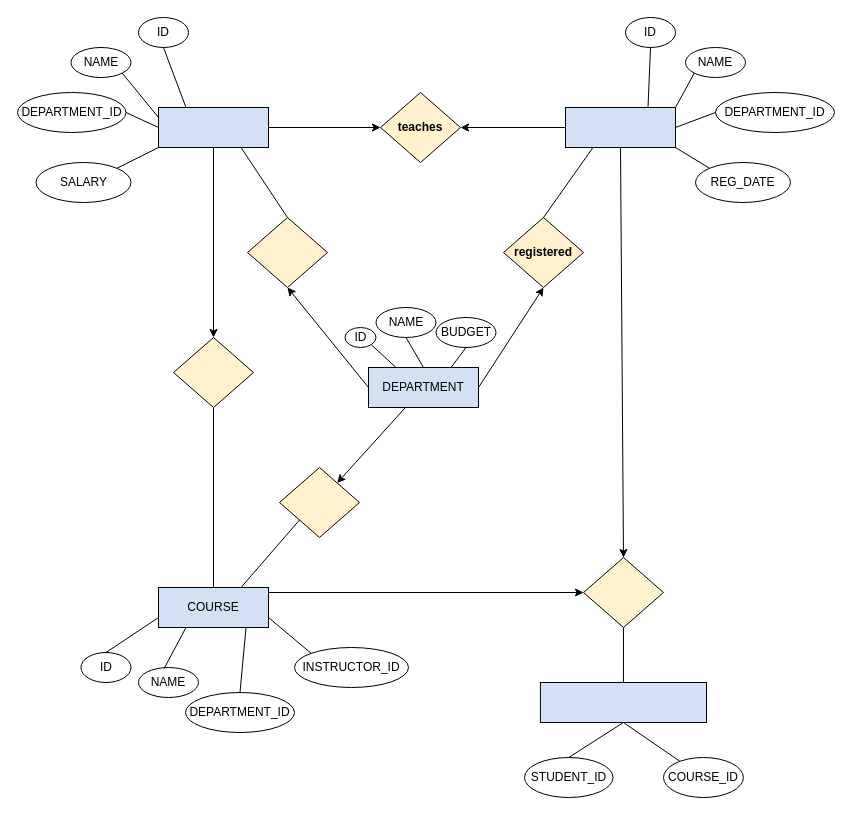
Some shapes in this 852 by 815 pixel diagram are drawn without their labels. The shapes that lost their labels are listed below. From the top down, each one's centre as x and y in pixels, then its label:
At [213,127]: "INSTRUCTOR".
At [620,127]: "STUDENT".
At [287,252]: "works".
At [213,372]: "takes".
At [319,502]: "contains".
At [623,592]: "enrolls".
At [622,702]: "STUENT_COURSE".
